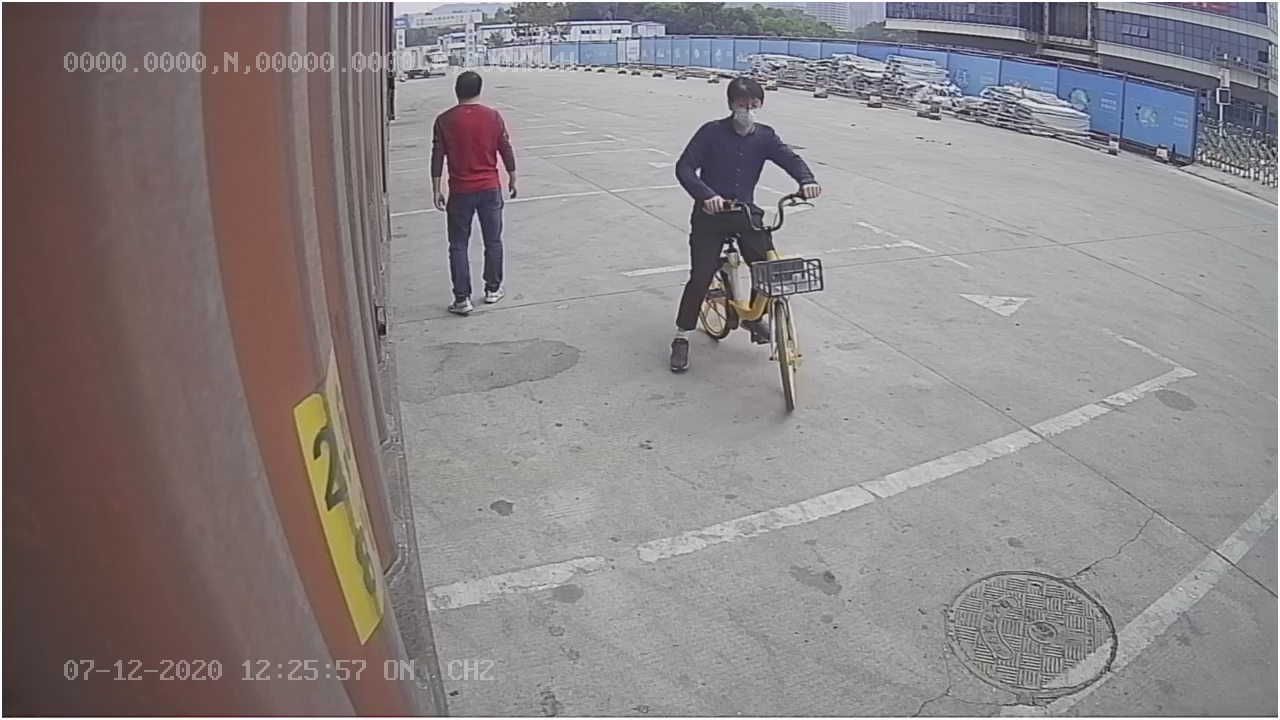person: (425, 65, 523, 317)
